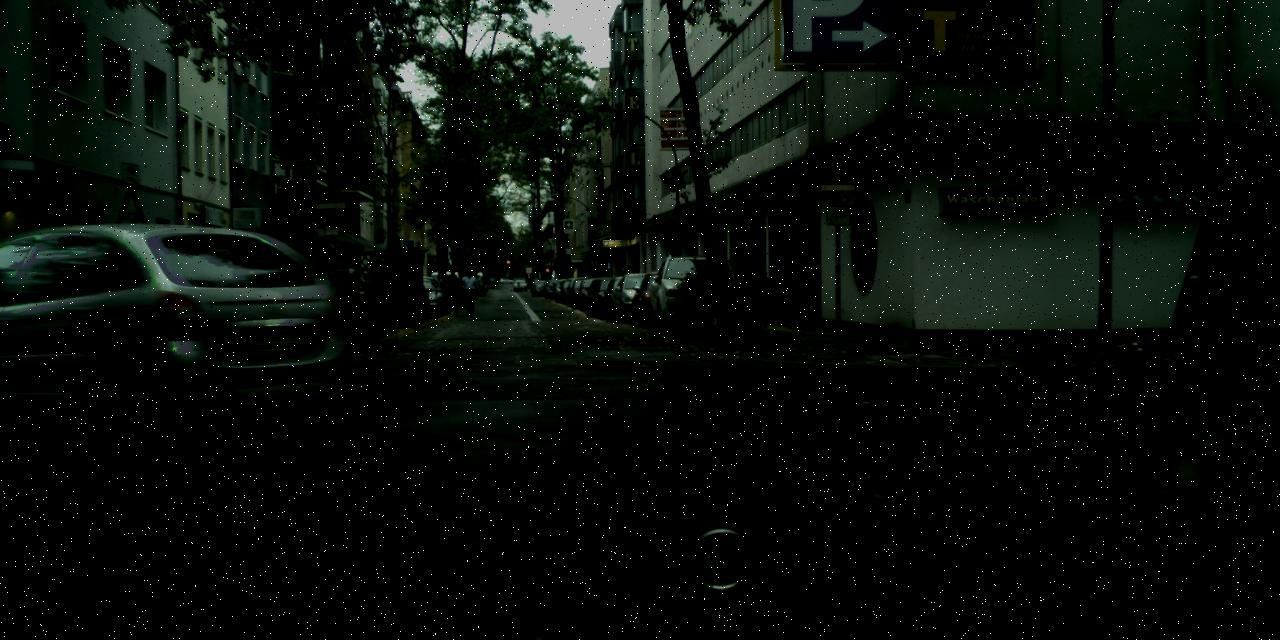ped: (443, 268, 461, 314), (460, 272, 478, 314)
